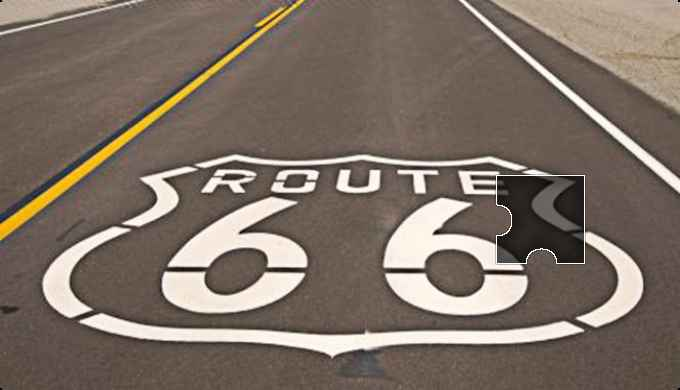gap: (496, 175, 585, 264)
